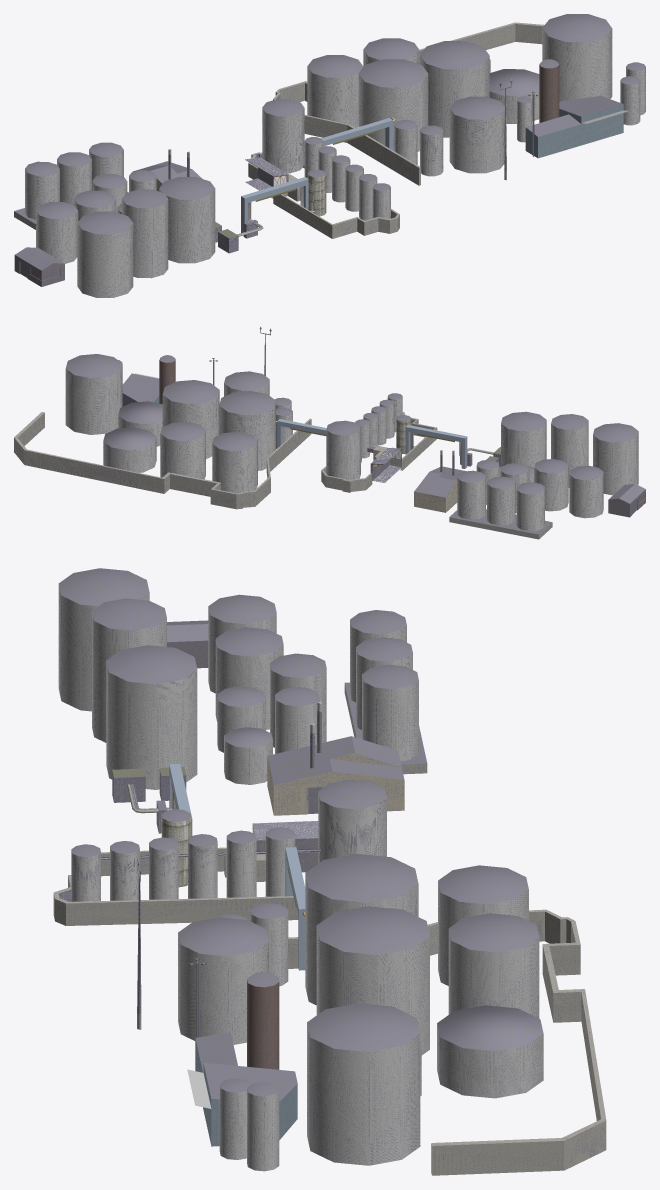
The model's file is OilRig.fbx.
3 views of the same model, one above another, from view 1: azimuth 30°, elevation 25°; view 2: azimuth 150°, elevation 25°; view 3: azimuth 270°, elevation 25° (orthographic). The views are drawn at different scales.
Visible parts, largest first — view 1: OilRig1, Composant__1_26, Composant__1_17, Composant__1_15, Composant__1_13, Composant__1_8, Composant__1_3, Group2, Composant__1_20, Composant__1_30, Composant__1_23, Composant__1_29 (+25 smaller); view 2: OilRig1, Composant__1_26, Composant__1_15, Composant__1_17, Composant__1_13, Composant__1_20, Composant__1_19, Composant__1_8, Composant__1_18, Composant__1_23, Composant__1_30, Composant__1_29 (+19 smaller); view 3: OilRig1, Composant__1_26, Composant__1_13, Composant__1_8, Composant__1_3, Composant__1_18, Composant__1_19, Group3, Composant__1_15, Composant__1_17, Composant__1_23, Composant__1_20 (+24 smaller).
Boxes of the visible parts, box(x1,y1,x2,y2) form: OilRig1: box(14, 22, 544, 286); Composant__1_26: box(542, 14, 612, 101); Composant__1_17: box(77, 211, 133, 297); Composant__1_15: box(358, 59, 428, 151); Composant__1_13: box(419, 41, 489, 137); Composant__1_8: box(159, 177, 215, 263); Composant__1_3: box(449, 96, 504, 173); Group2: box(525, 96, 628, 158); Composant__1_20: box(307, 55, 363, 127); Composant__1_30: box(122, 189, 168, 278); Composant__1_23: box(262, 99, 304, 173); Composant__1_29: box(36, 202, 78, 263); OilRig1: box(14, 326, 645, 539); Composant__1_26: box(65, 354, 122, 434); Composant__1_15: box(219, 391, 275, 470); Composant__1_17: box(593, 423, 638, 495); Composant__1_13: box(162, 380, 219, 458); Composant__1_20: box(212, 432, 257, 493); Composant__1_19: box(160, 422, 205, 479); Composant__1_8: box(501, 411, 546, 467); Composant__1_18: box(103, 427, 156, 472); Composant__1_23: box(326, 420, 360, 480); Composant__1_30: box(551, 414, 588, 487); Composant__1_29: box(569, 465, 603, 518); OilRig1: box(53, 620, 606, 1175); Composant__1_26: box(307, 1003, 420, 1165); Composant__1_13: box(316, 906, 429, 1055); Composant__1_8: box(106, 645, 197, 789); Composant__1_3: box(178, 917, 268, 1044); Composant__1_18: box(437, 1005, 543, 1098); Composant__1_19: box(448, 913, 539, 1018); Group3: box(267, 736, 404, 815); Composant__1_15: box(305, 854, 418, 1005); Composant__1_17: box(58, 568, 149, 711); Composant__1_23: box(318, 779, 386, 863); Composant__1_20: box(438, 865, 528, 985).
Size of the model in its own units: 136 by 20.61 by 60.79.
